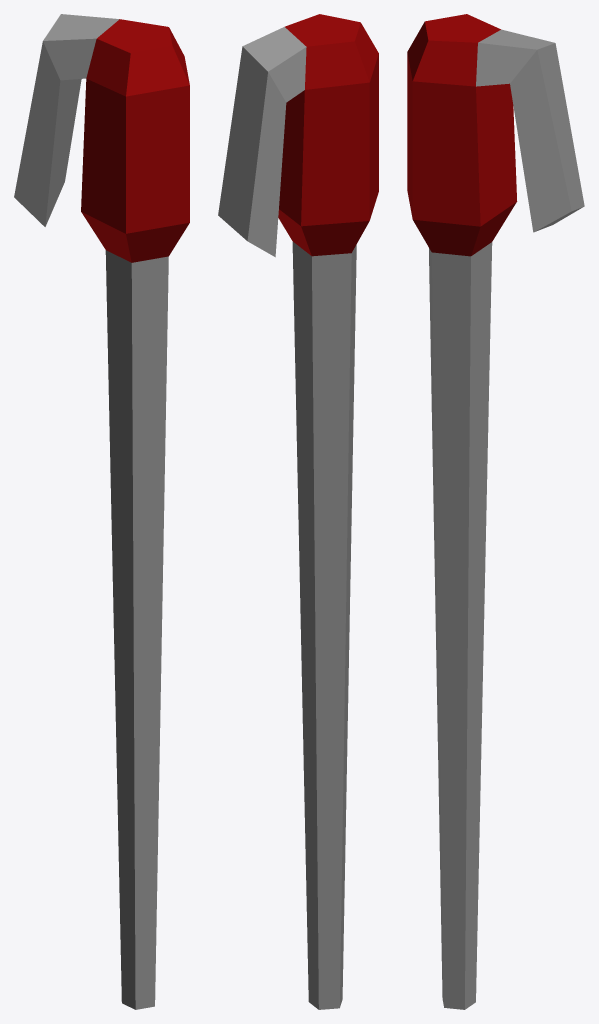
File: lever.fbx
The picture shows the model from 3 angles, left to right: view 1: azimuth 90°, elevation 25°; view 2: azimuth 150°, elevation 25°; view 3: azimuth 270°, elevation 25°; orthographic projection.
Parts seen in each view (by area): view 1: Cylinder.001; view 2: Cylinder.001; view 3: Cylinder.001.
Boxes of the visible parts, x1,y1,x2,y2 form: Cylinder.001: (14,14,189,1009); Cylinder.001: (218,14,378,1009); Cylinder.001: (407,14,584,1009).
Size of the model in its own units: 0.1822 by 1.56 by 0.2578.
